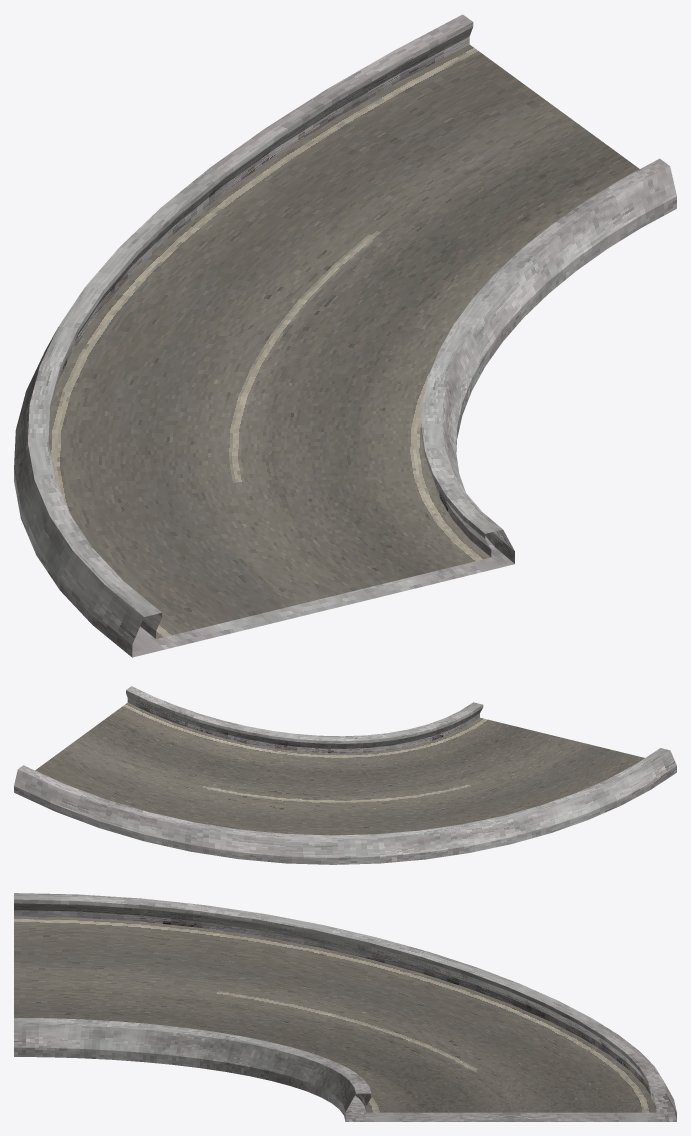
The model's file is road-Turn-Flat-BiSlopeUp-Up1-Right-Size2.glb.
3 renders of one model, top to bottom at view 1: azimuth 30°, elevation 25°; view 2: azimuth 150°, elevation 25°; view 3: azimuth 270°, elevation 25°, orthographic. The views are drawn at different scales.
Parts seen in each view (by area): view 1: road-Turn-Flat-BiSlopeUp-Up1-Right-Size2; view 2: road-Turn-Flat-BiSlopeUp-Up1-Right-Size2; view 3: road-Turn-Flat-BiSlopeUp-Up1-Right-Size2.
Part boxes in pixels (bbox=[...]): road-Turn-Flat-BiSlopeUp-Up1-Right-Size2: bbox=[14, 14, 676, 657]; road-Turn-Flat-BiSlopeUp-Up1-Right-Size2: bbox=[14, 686, 676, 864]; road-Turn-Flat-BiSlopeUp-Up1-Right-Size2: bbox=[14, 893, 676, 1121].
Bounding box in the file's own units: 2 × 0.3444 × 2.
2 materials, 2 textured.
